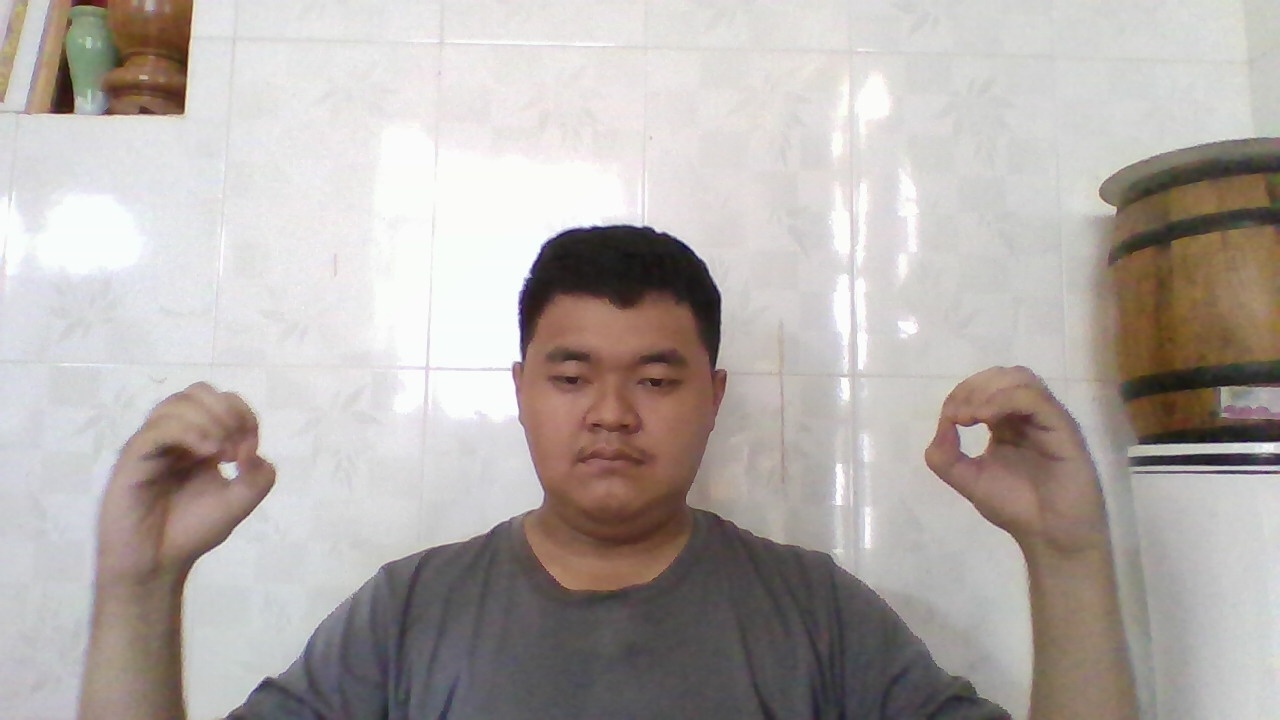O: (124, 373, 281, 586), (925, 356, 1076, 556)
